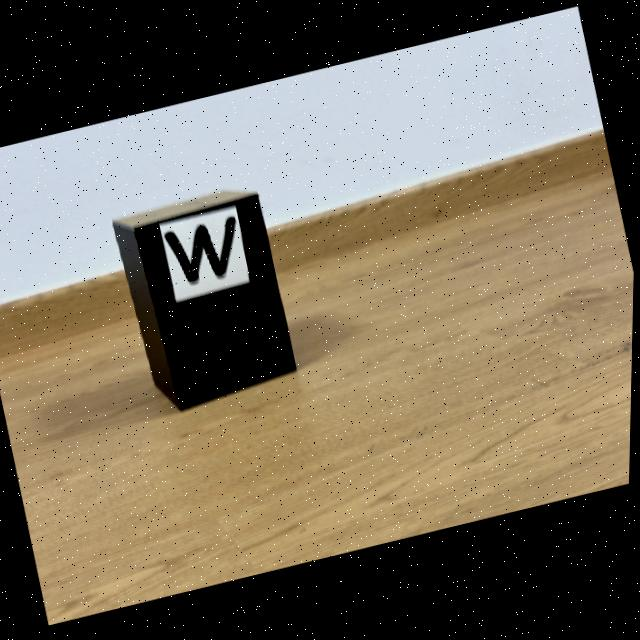W: (165, 218, 237, 283)
